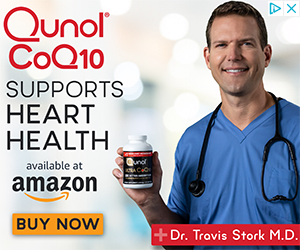fake_button: (2, 208, 107, 245), (263, 0, 300, 24)
